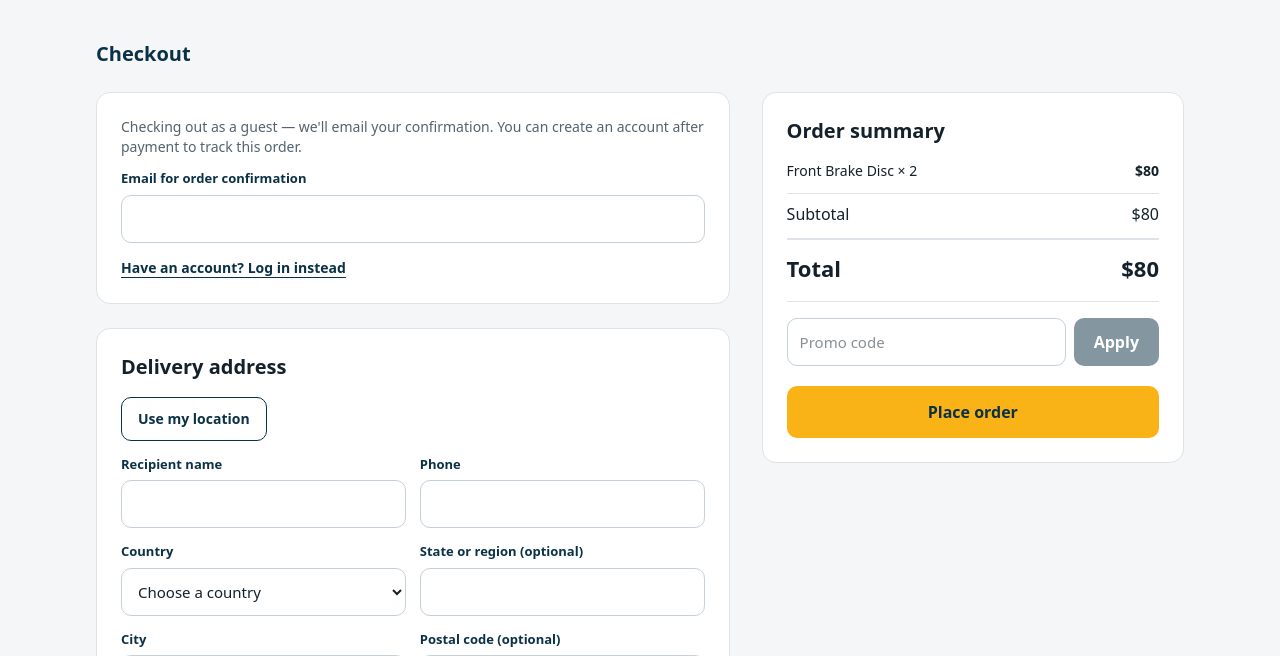
checkout: 'Use my location' and Arabic › CRITICAL: the location fills the street, city and country (only a country we serve), says so, and the buyer can still change everything
Click the button "Use my location": (194, 418) [121,396,267,440]
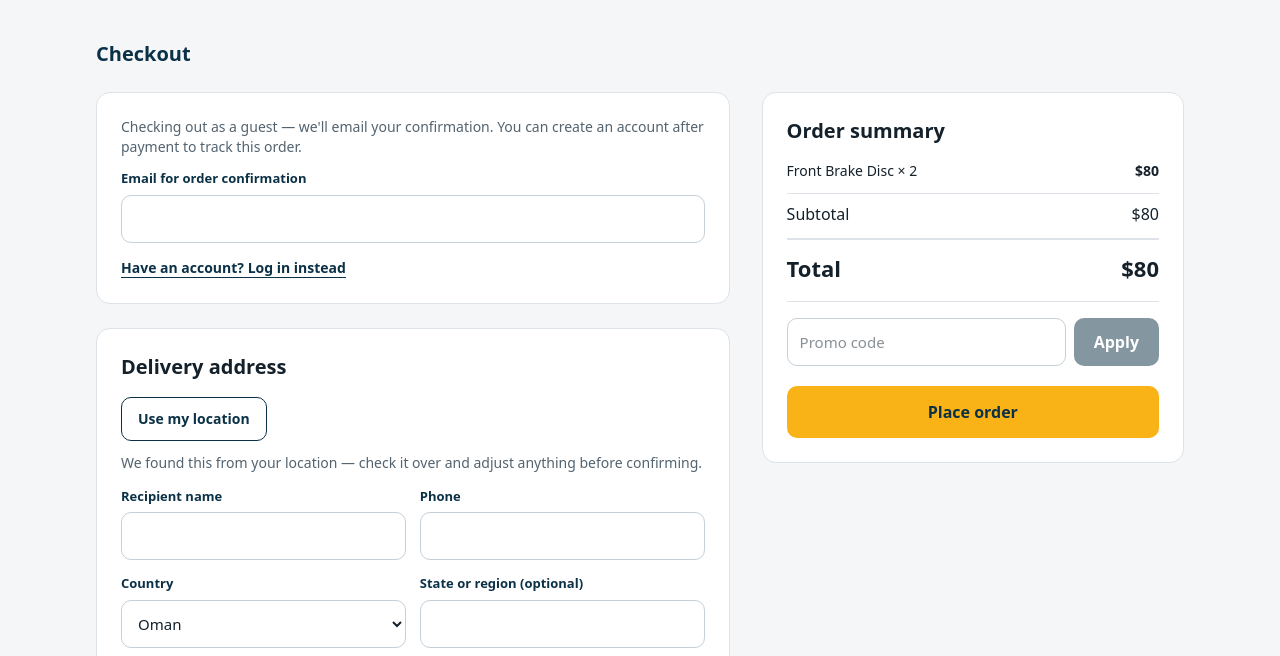
Check: the text "We found this from your location" is shown, box [121,452,702,472]
Check: the dropdown labelled "Country" shows "Oman", box [121,600,406,648]
